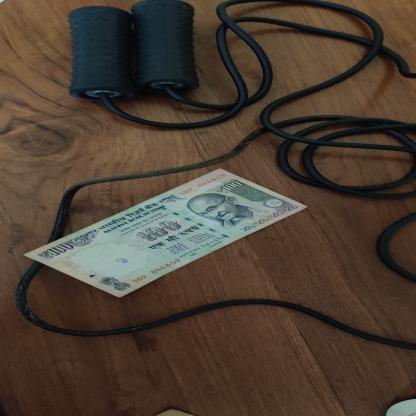Old100Front: (22, 168, 308, 298)
